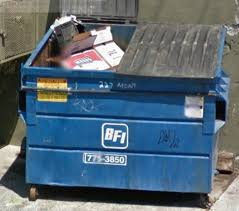Dumpster: (17, 1, 231, 206)
